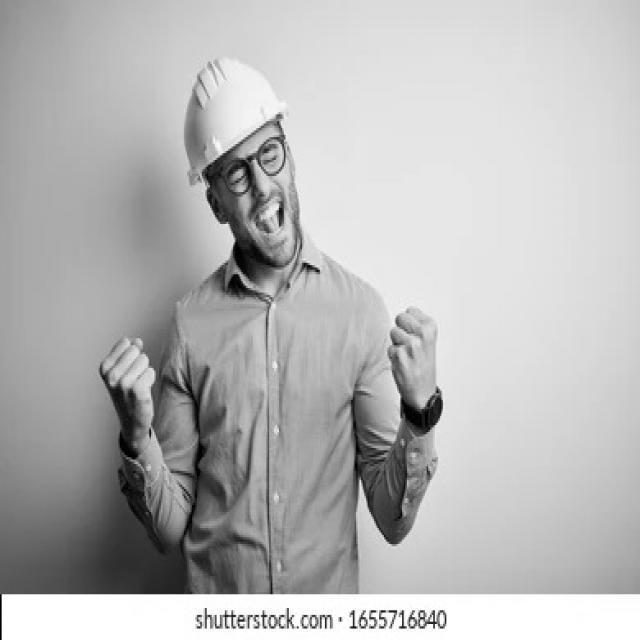safety_helmet: (184, 57, 289, 187)
